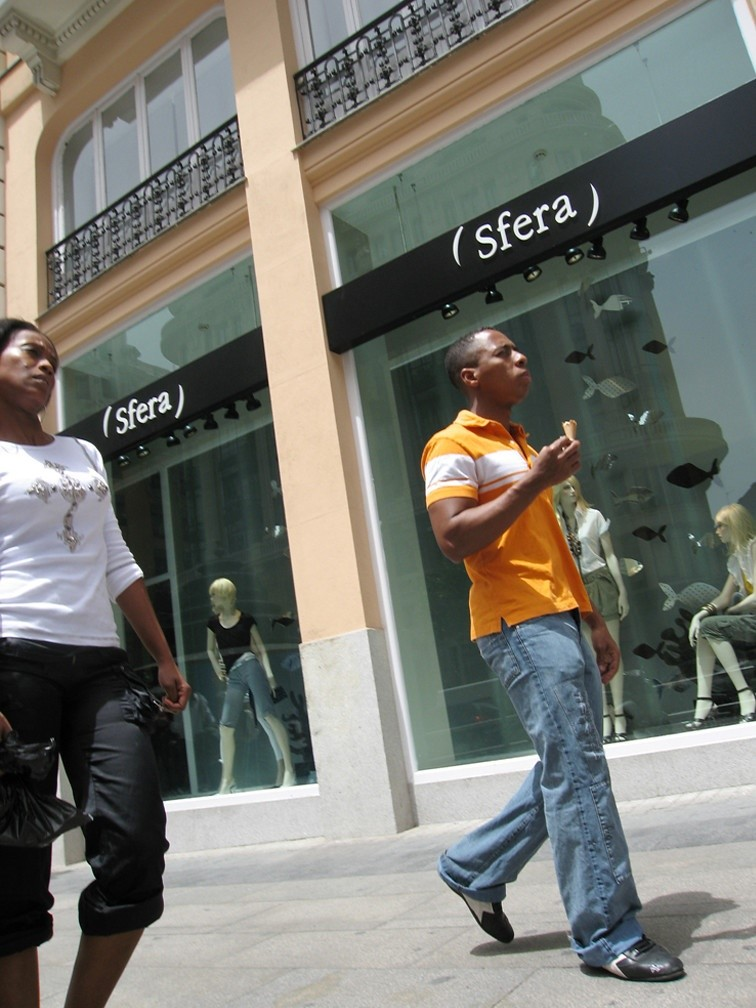face_no_mask: (445, 323, 536, 412), (0, 316, 59, 412)
